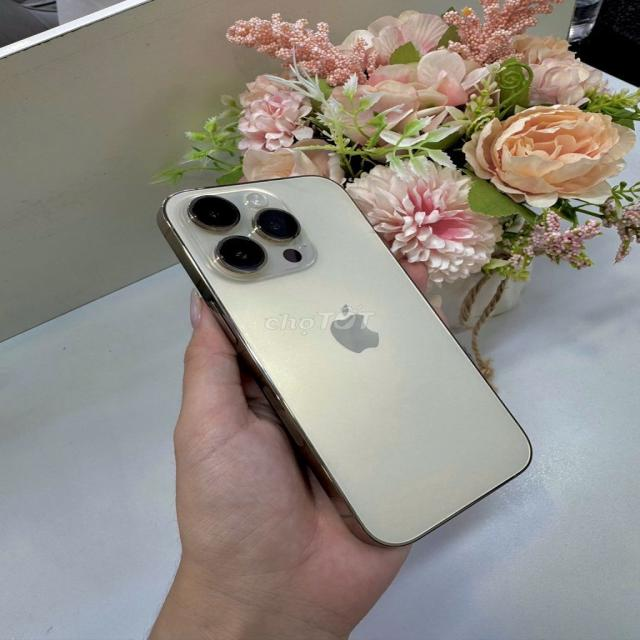gen_14: (147, 171, 541, 552)
